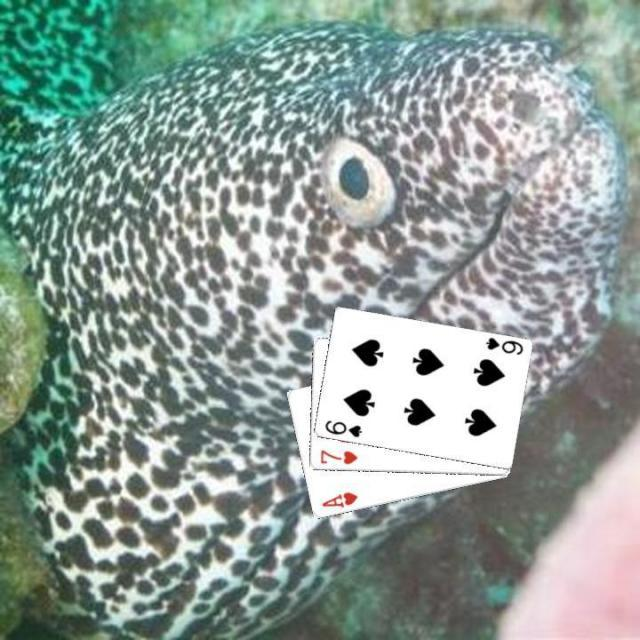6S: (321, 416, 364, 439), (482, 334, 524, 356)
7H: (316, 446, 359, 467)
AH: (317, 488, 359, 510)
